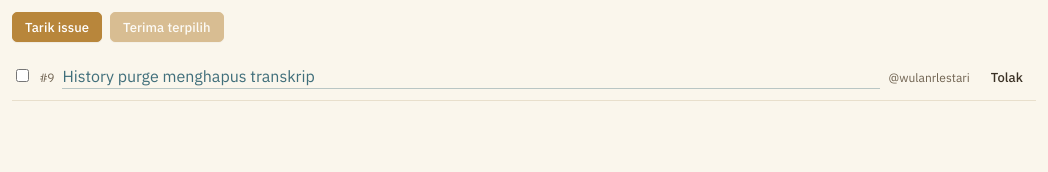
Test case: SPEC-471 · panel issue GitHub › gagal tarik menampilkan SEBABNYA, bukan daftar kosong senyap
Check: the link "History purge menghapus transkrip" is shown, box [62, 64, 880, 88]
Click the button "Tarik issue": point(57, 27) [12, 12, 102, 42]
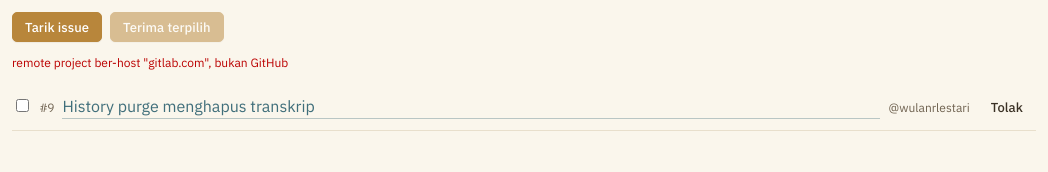
Check: the text "remote project ber-host \"gitlab.com\", bukan GitHub" is shown, box [12, 55, 288, 70]
